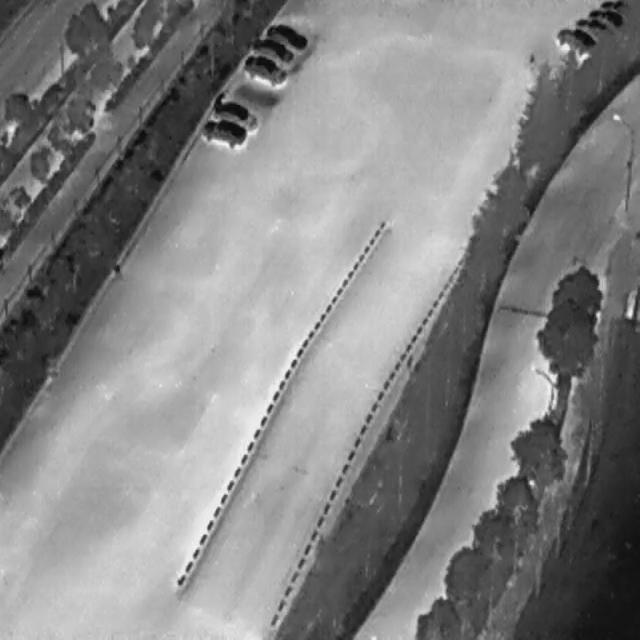Car: (550, 14, 602, 71), (238, 42, 290, 92), (210, 91, 262, 134), (258, 14, 311, 55), (200, 110, 247, 151), (248, 26, 296, 66), (585, 1, 626, 34), (571, 12, 610, 38), (594, 0, 629, 9)
